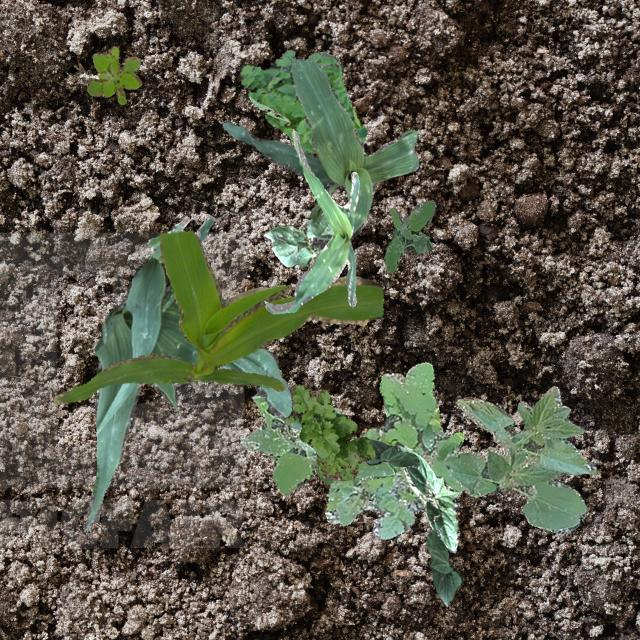crop: (82, 258, 302, 530), (52, 230, 382, 403), (222, 54, 418, 248), (444, 384, 594, 532), (264, 130, 358, 312), (394, 442, 458, 552), (262, 210, 332, 266), (146, 215, 214, 262), (426, 528, 462, 606), (364, 438, 418, 466)
weed: (324, 360, 464, 538), (240, 392, 396, 494), (238, 49, 366, 152), (284, 382, 374, 480), (384, 200, 434, 272), (86, 46, 140, 104)
